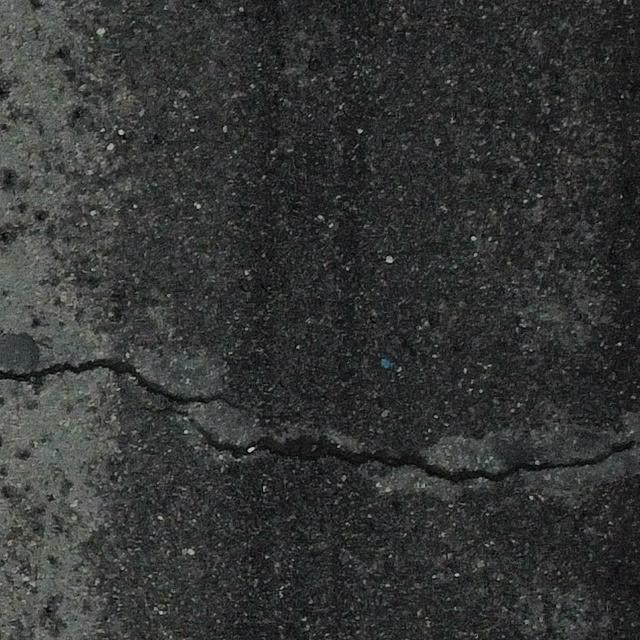TransverseCrack: (1, 357, 640, 484)
